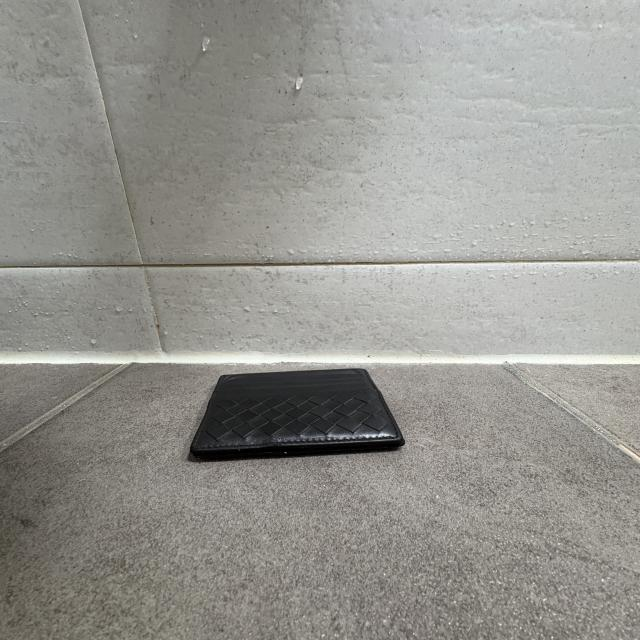wallet: (186, 366, 404, 459)
